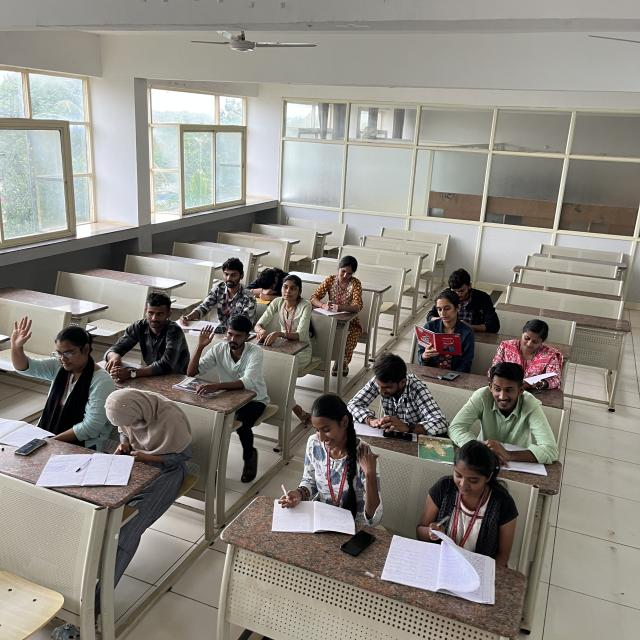Hand Rising: (5, 311, 109, 426), (190, 316, 268, 398)
Reading: (398, 444, 496, 585), (275, 392, 365, 531), (332, 357, 434, 433), (488, 315, 582, 388), (409, 294, 484, 372), (313, 257, 371, 323)
Sleeping: (245, 258, 308, 311)
Using Phone: (94, 384, 193, 465), (420, 263, 507, 329)
Writing: (167, 254, 256, 327)
